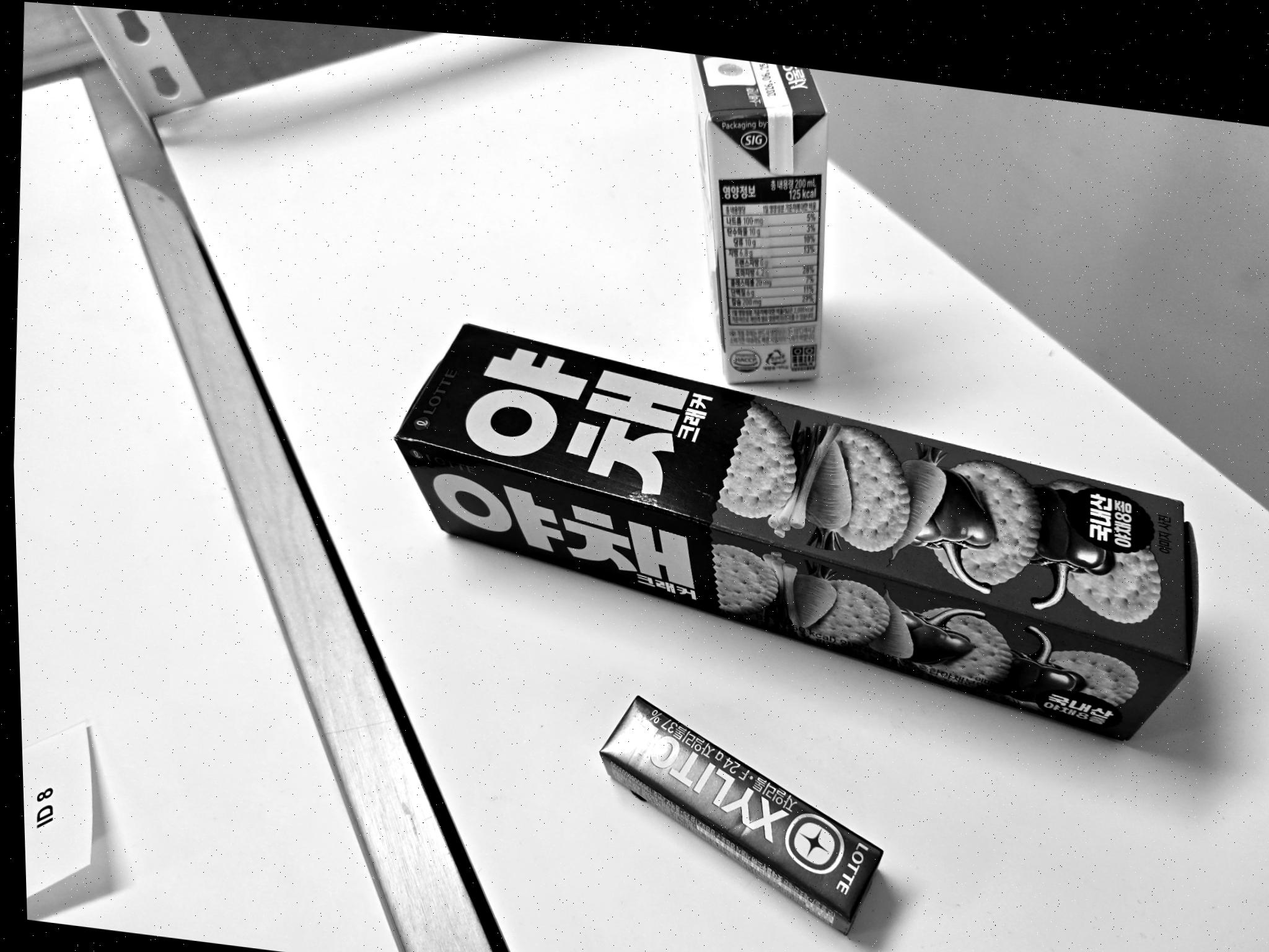cracker_vege: (396, 324, 1198, 738)
gum_green: (600, 697, 882, 932)
milk_green: (687, 54, 828, 382)
